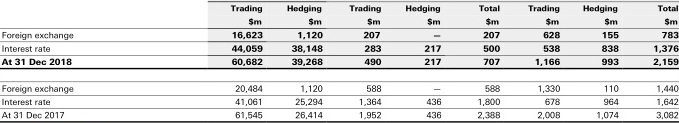column: (1, 1, 76, 123), (405, 1, 443, 123), (229, 1, 266, 123), (286, 1, 323, 123), (583, 1, 620, 123), (528, 1, 562, 123), (349, 2, 383, 123), (653, 1, 679, 123), (477, 1, 501, 123)
row: (1, 5, 679, 14), (1, 17, 679, 26), (1, 84, 678, 93), (1, 44, 679, 52), (1, 111, 679, 119), (1, 57, 678, 65), (1, 97, 677, 105), (1, 32, 678, 39)
